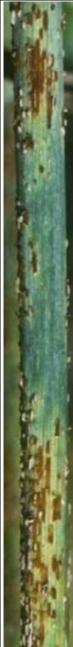Wheat: (18, 12, 66, 647)
